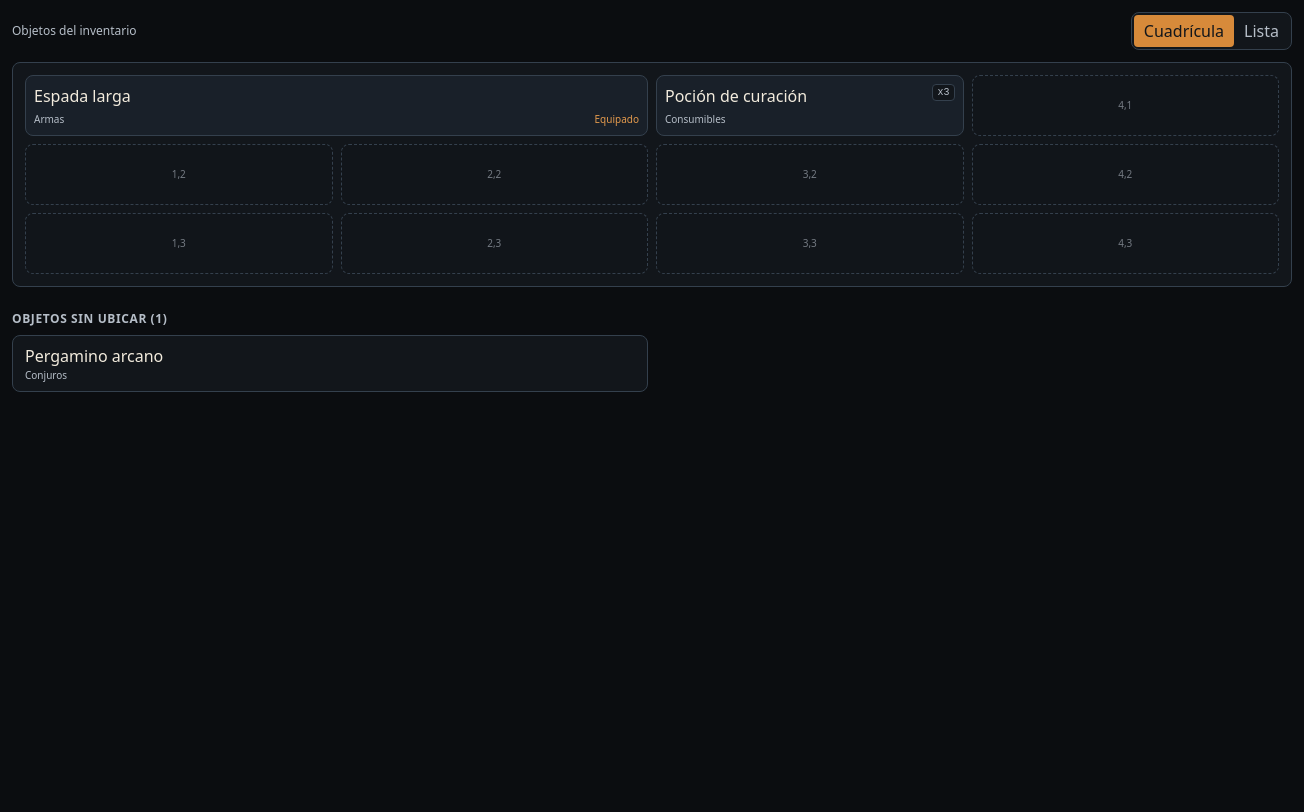
it: InventoryGrid — spatial presentation and fallback › allows cancelling the move operation
Click the button "Espada larga Armas Equipado": [82, 96] box [25,75,648,136]
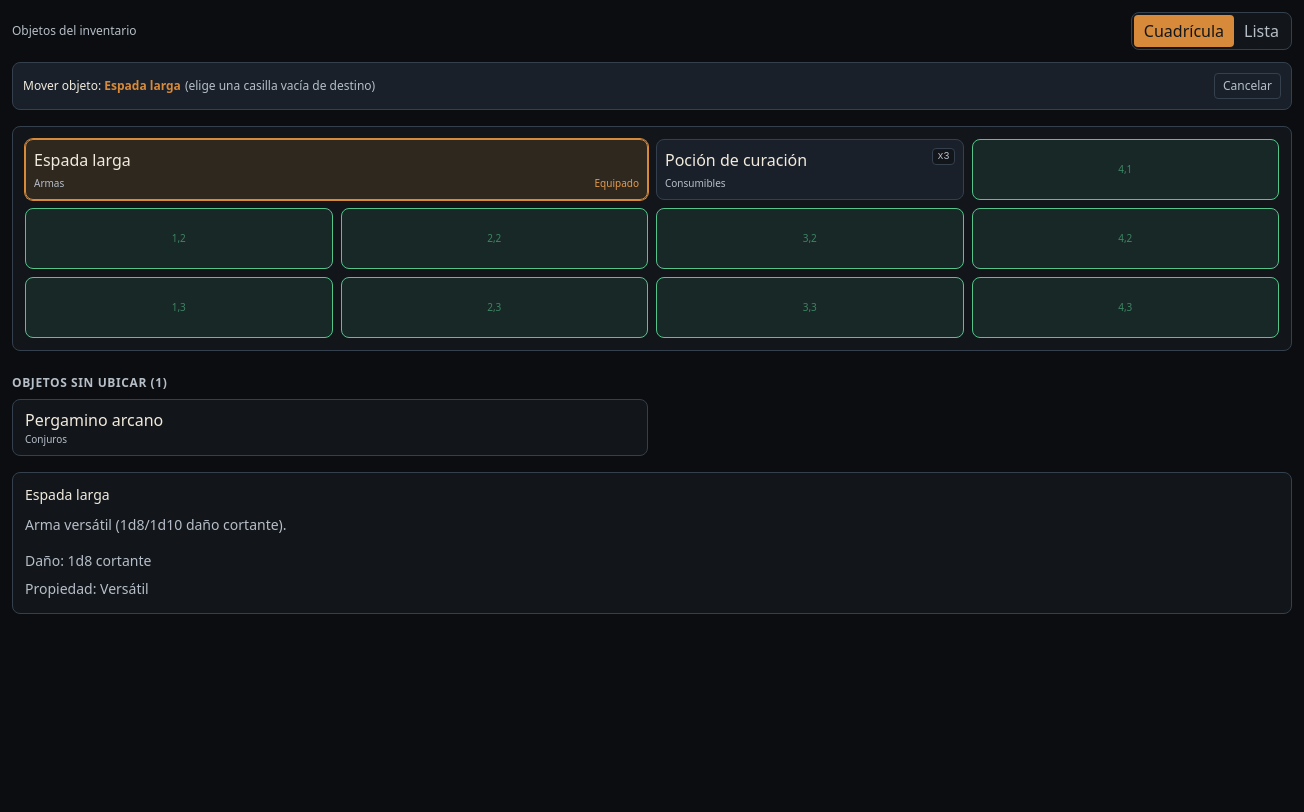
Expected: the text "Mover objeto:" is shown, [23,77,101,94]
Click the button "Cancelar": [1248, 86] box [1214,73,1281,99]
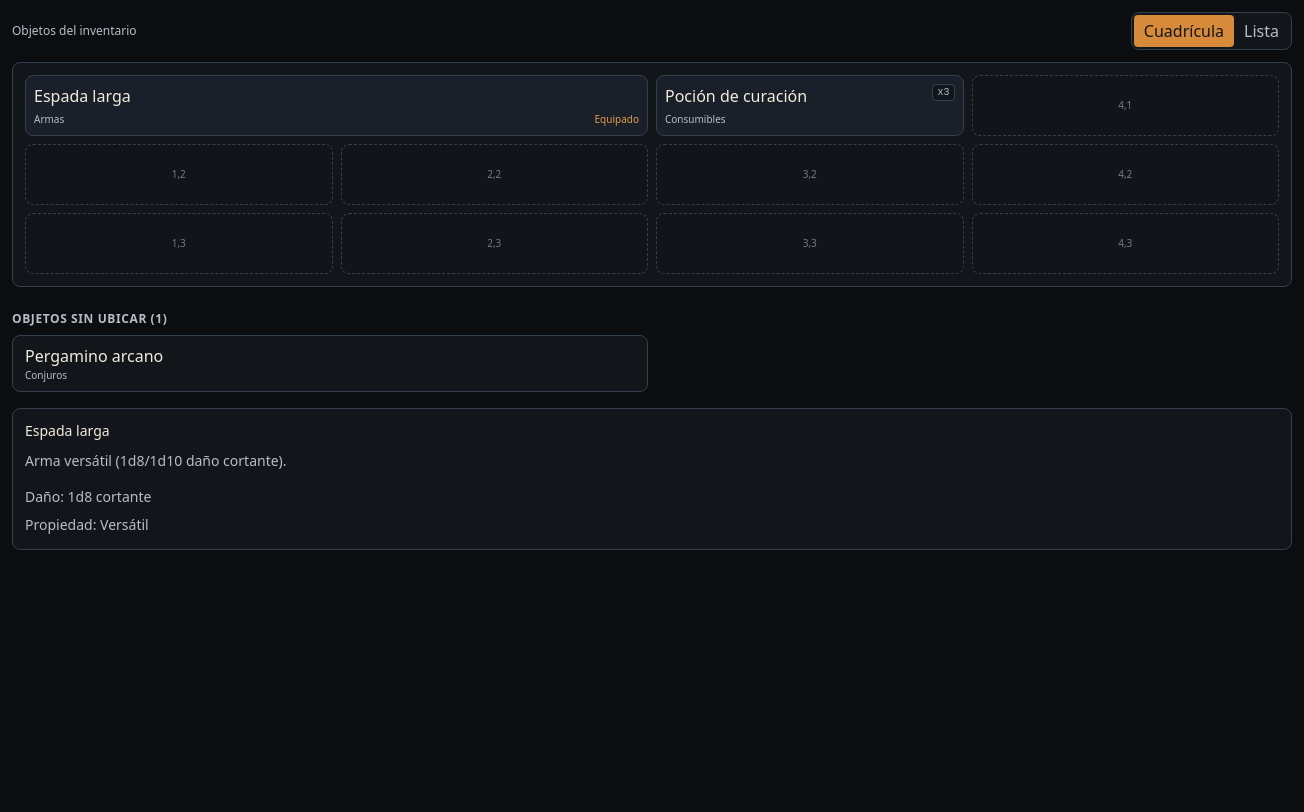
Expected: the text "Mover objeto:" is gone
